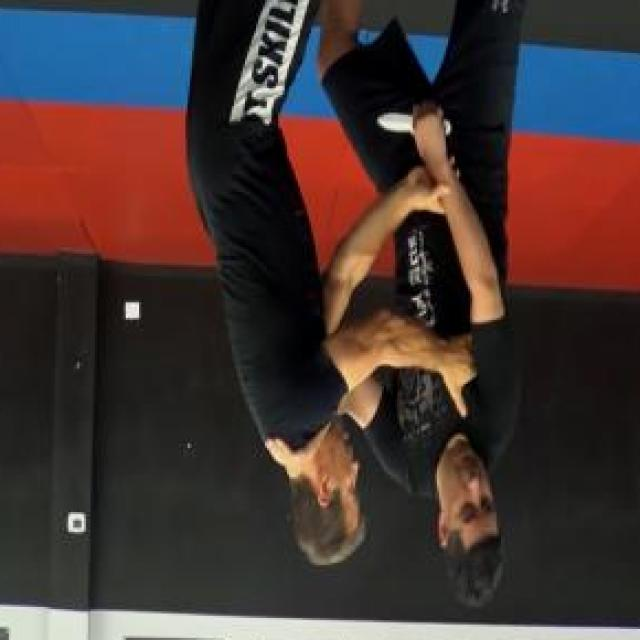knife: (374, 104, 455, 143)
